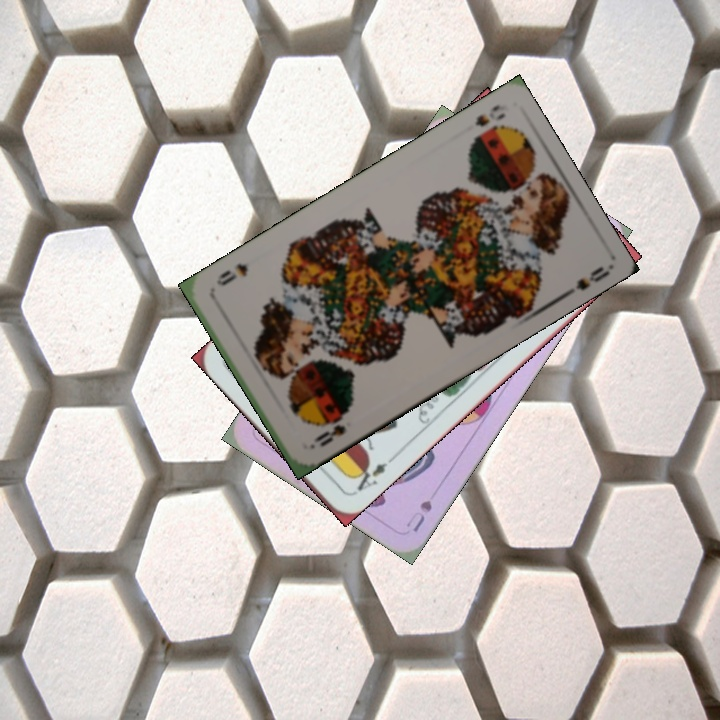EA: (347, 452, 397, 496)
SO: (309, 420, 349, 450), (471, 100, 508, 130)
SU: (402, 495, 435, 535)
